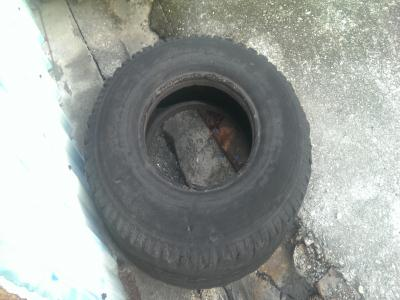tire: (86, 34, 313, 291)
